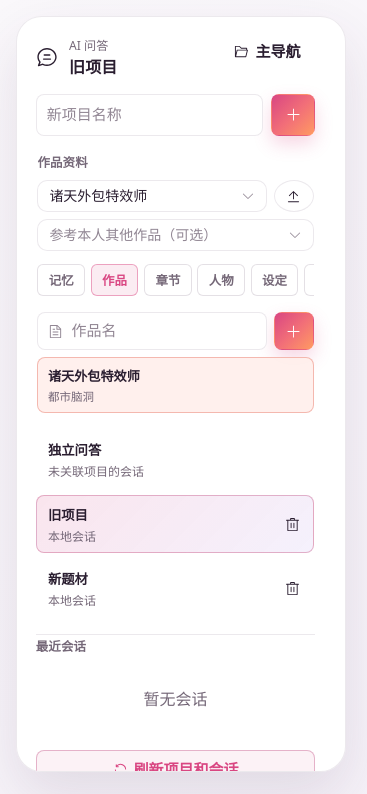
Test: KnowledgeProjectSpace › shows the initial empty conversation created with a new project
Type "New project" into the field with placeholder "新项目名称" at (150, 115), box [47,100,252,130]
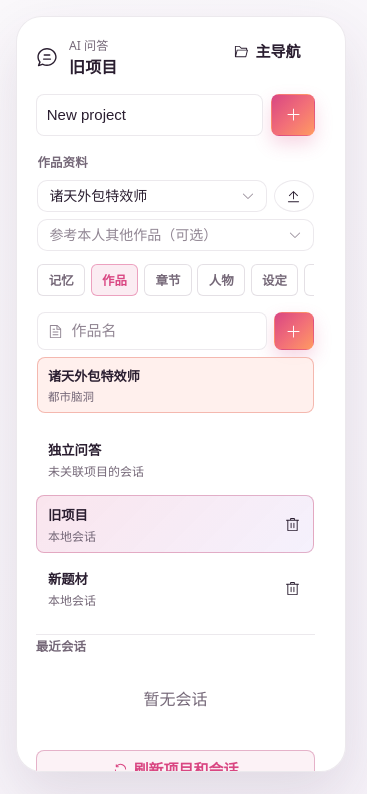
Click the button with test id "knowledge-create-project" at (293, 115), box [271,94,315,136]
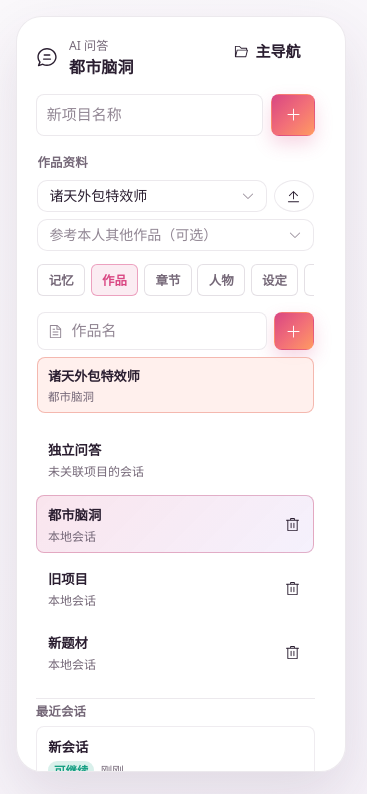
expect the button with test id "knowledge-conversation-conv-initial" is shown: met, box [36,726,315,772]
expect the text "新会话" is shown: met, box [48,740,88,755]
